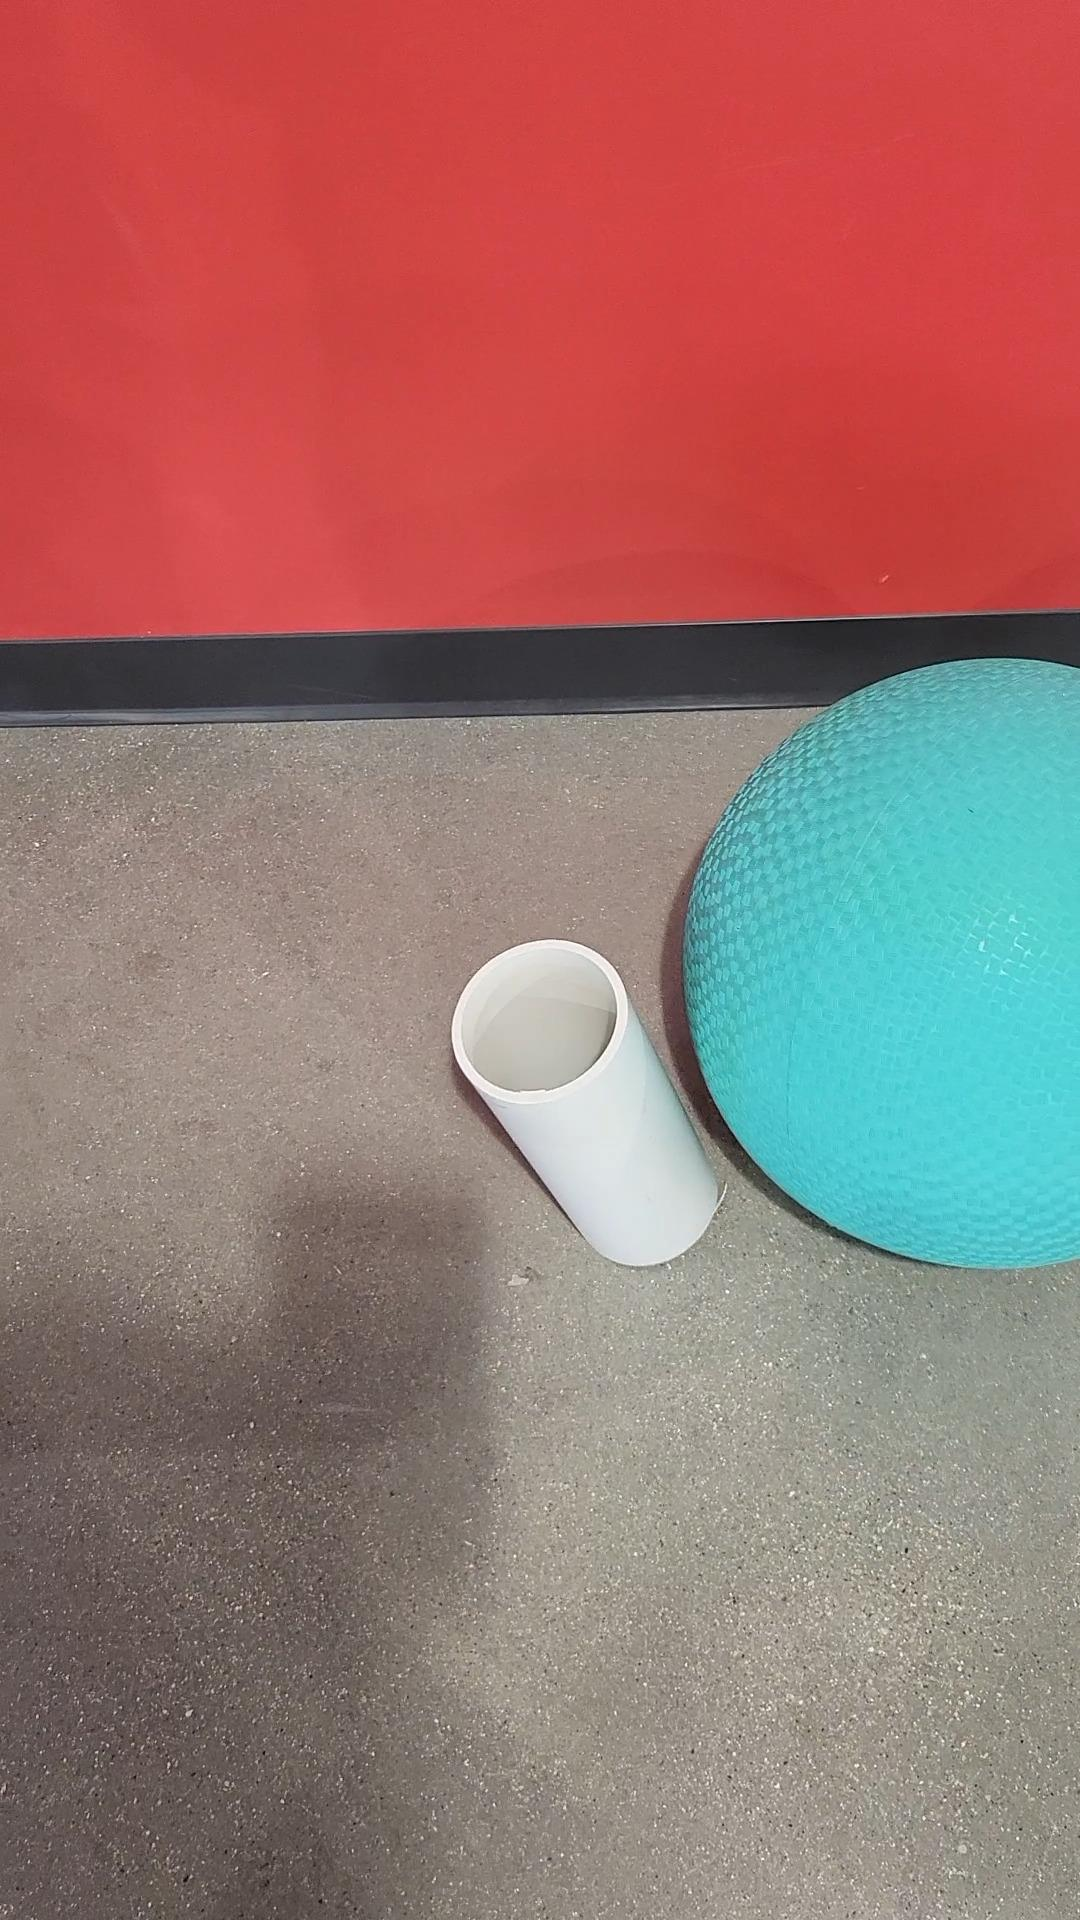algae: (682, 655, 1080, 1275)
coral: (443, 932, 721, 1267)
